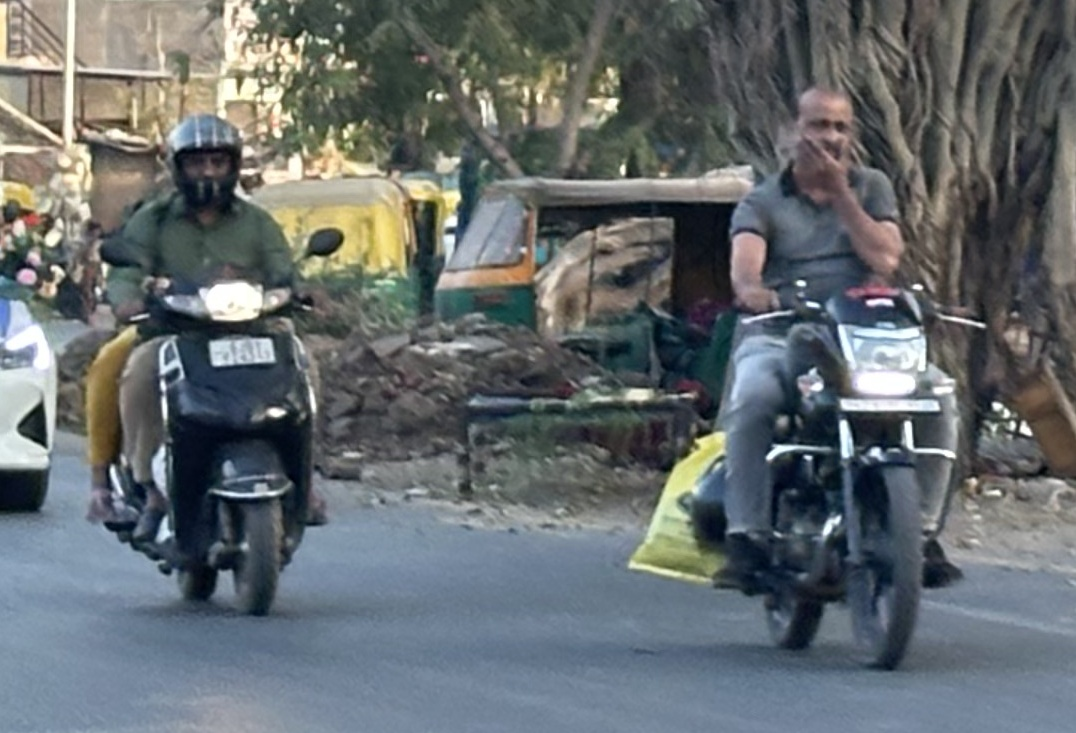BikeWithRider: (673, 74, 985, 677), (73, 104, 354, 624)
Helmet: (150, 105, 257, 217)
NoHelmet: (777, 77, 874, 183)
